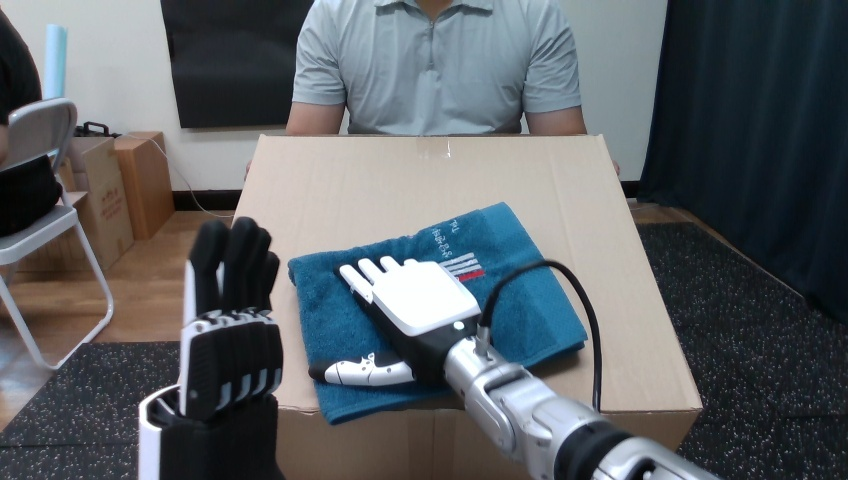left robot hand: (309, 256, 716, 479), (139, 217, 282, 478), (489, 265, 597, 410)
